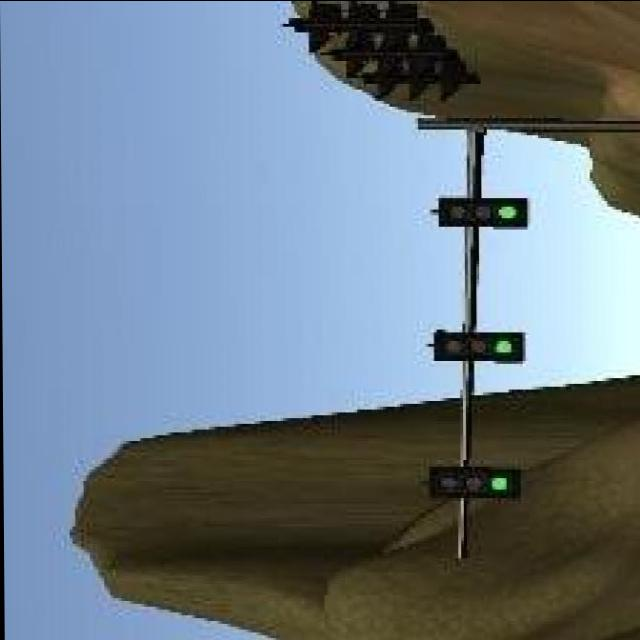green light: (426, 463, 520, 500), (430, 332, 524, 360), (438, 198, 526, 226)
